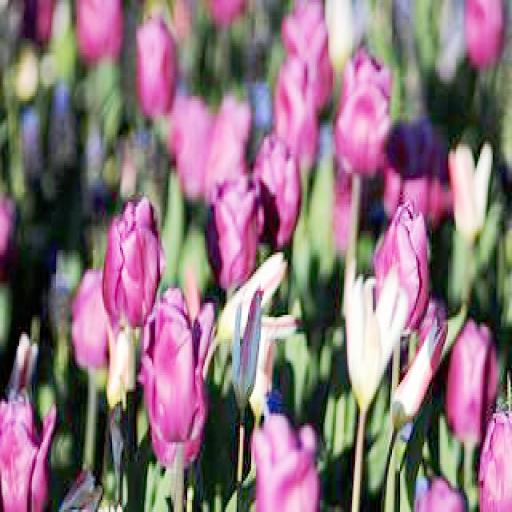tulip: (139, 294, 211, 454), (102, 197, 165, 320), (338, 44, 394, 176), (249, 408, 316, 512), (376, 200, 427, 330), (448, 318, 498, 442), (214, 168, 262, 276), (256, 132, 302, 240), (480, 413, 512, 512)
